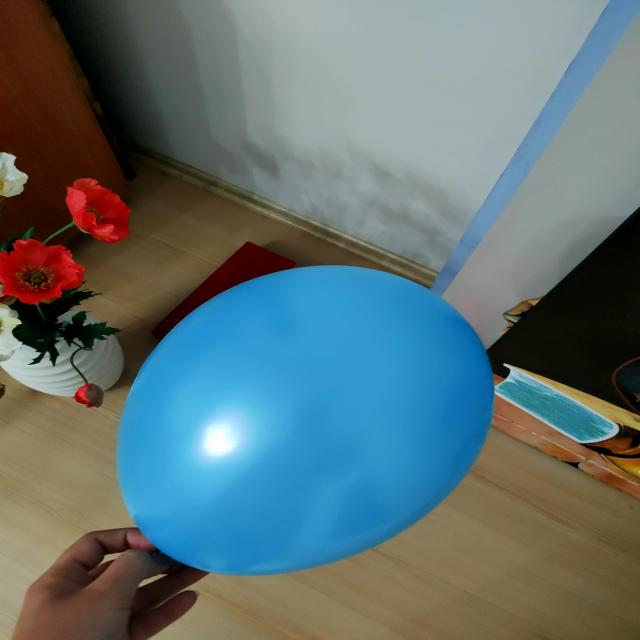blue: (120, 266, 494, 575)
